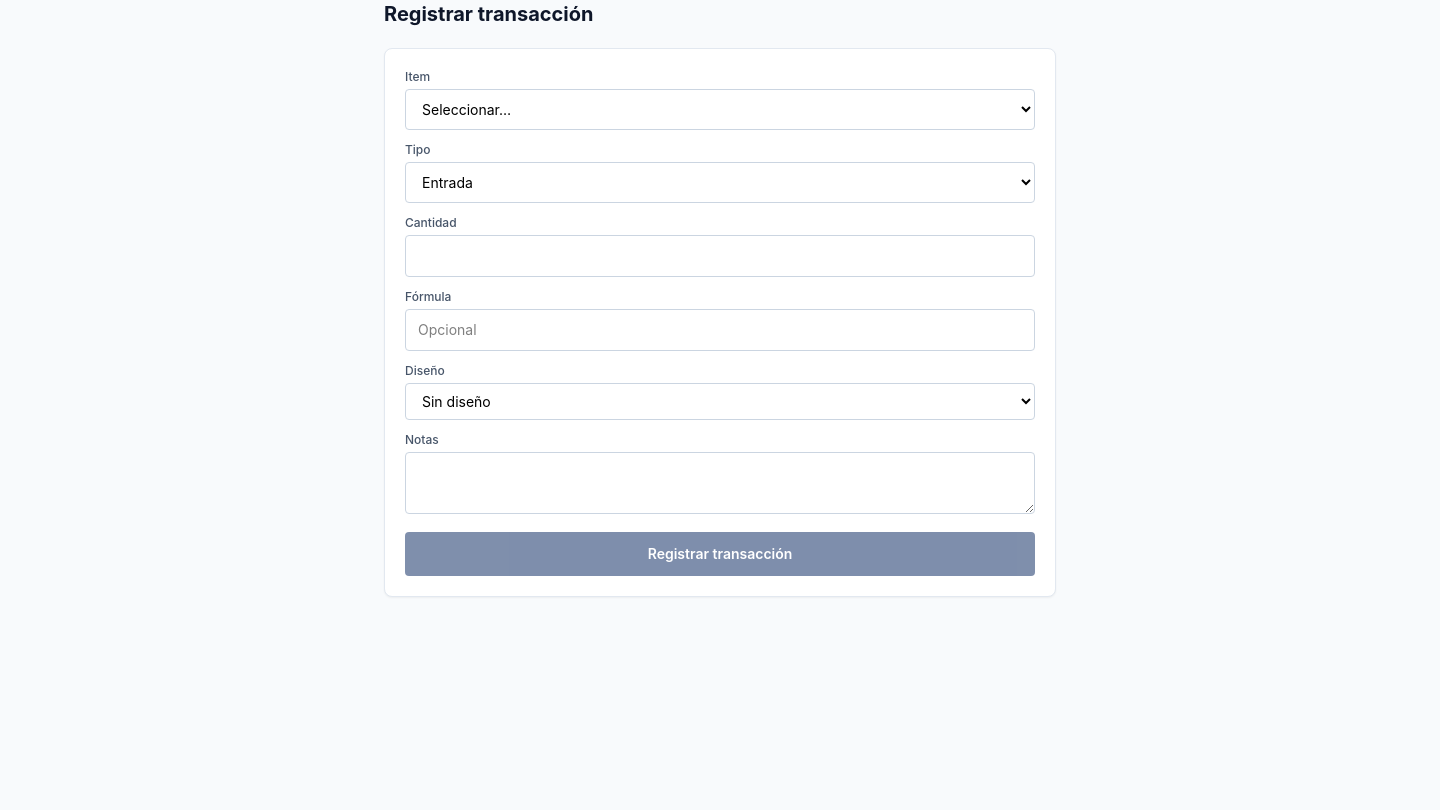
Test case: InventoryTransactionPage (mobile txn form) › shows the backend ajuste-sin-nota message verbatim
Select "Colorante Amarillo 109" in the dropdown labelled "Item" at [720, 110], box x1=405 y1=89 x2=1035 y2=130
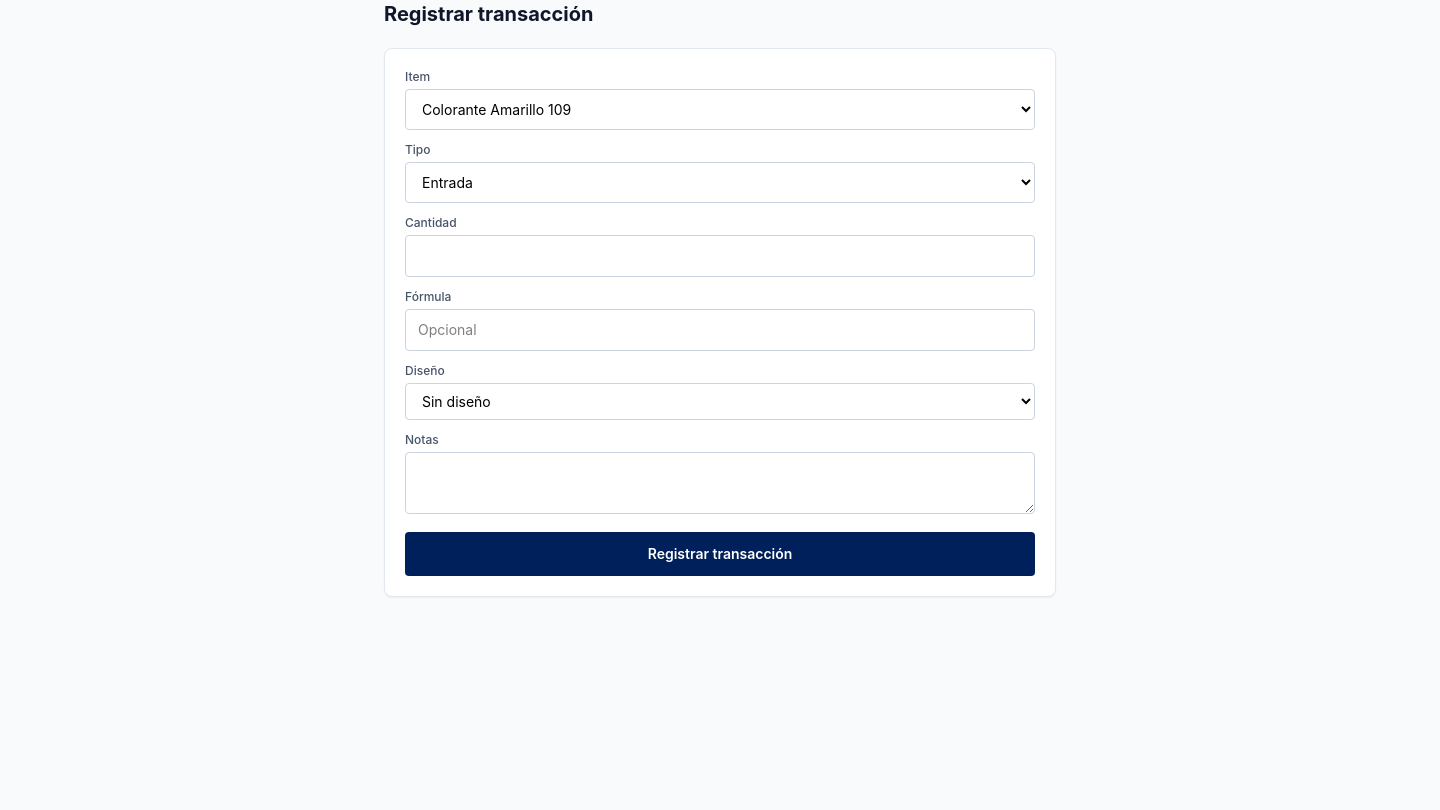
Select "Ajuste" in the dropdown labelled "Tipo" at [720, 182], box x1=405 y1=162 x2=1035 y2=203
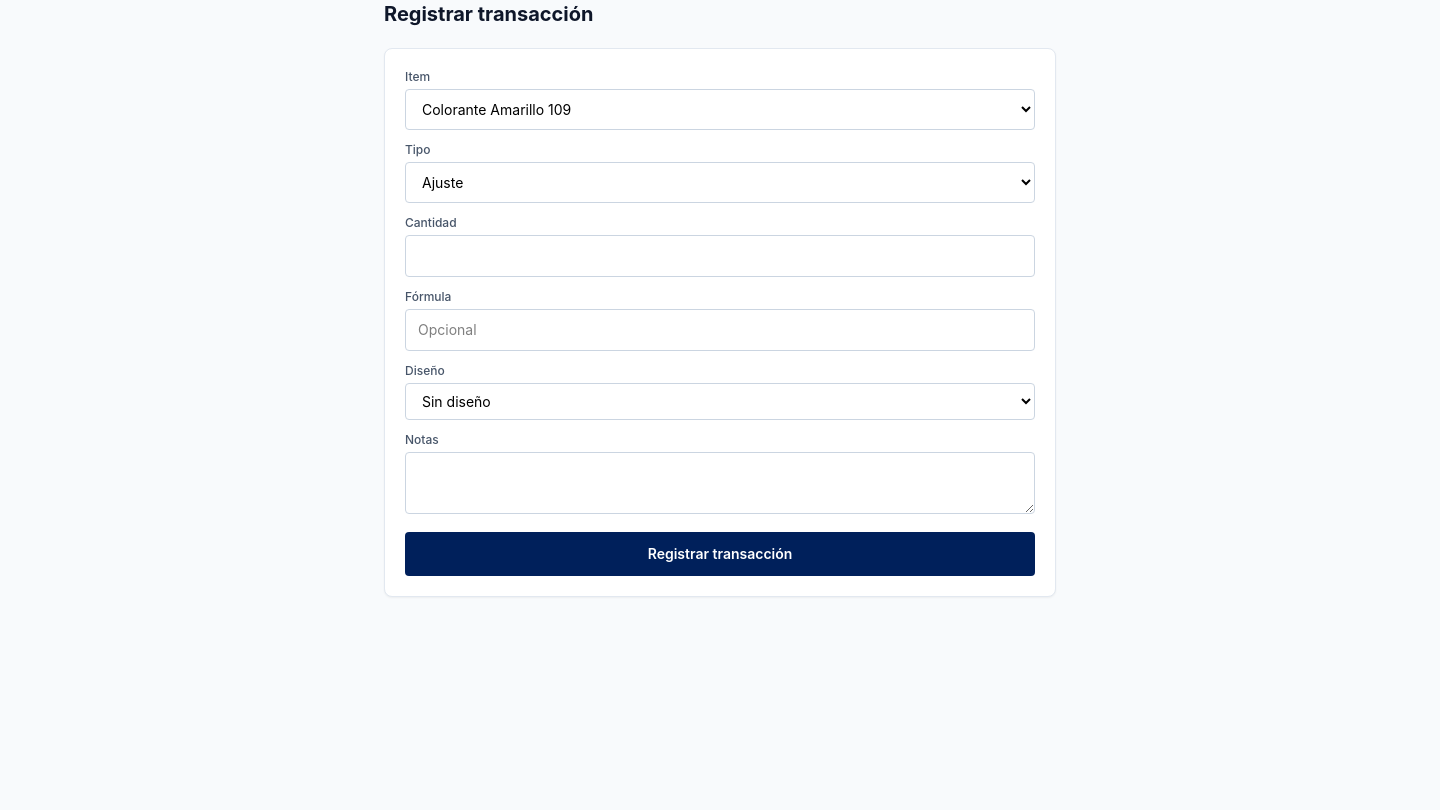
Type "2" into the number field labelled "Cantidad" at [720, 256], box x1=405 y1=235 x2=1035 y2=277
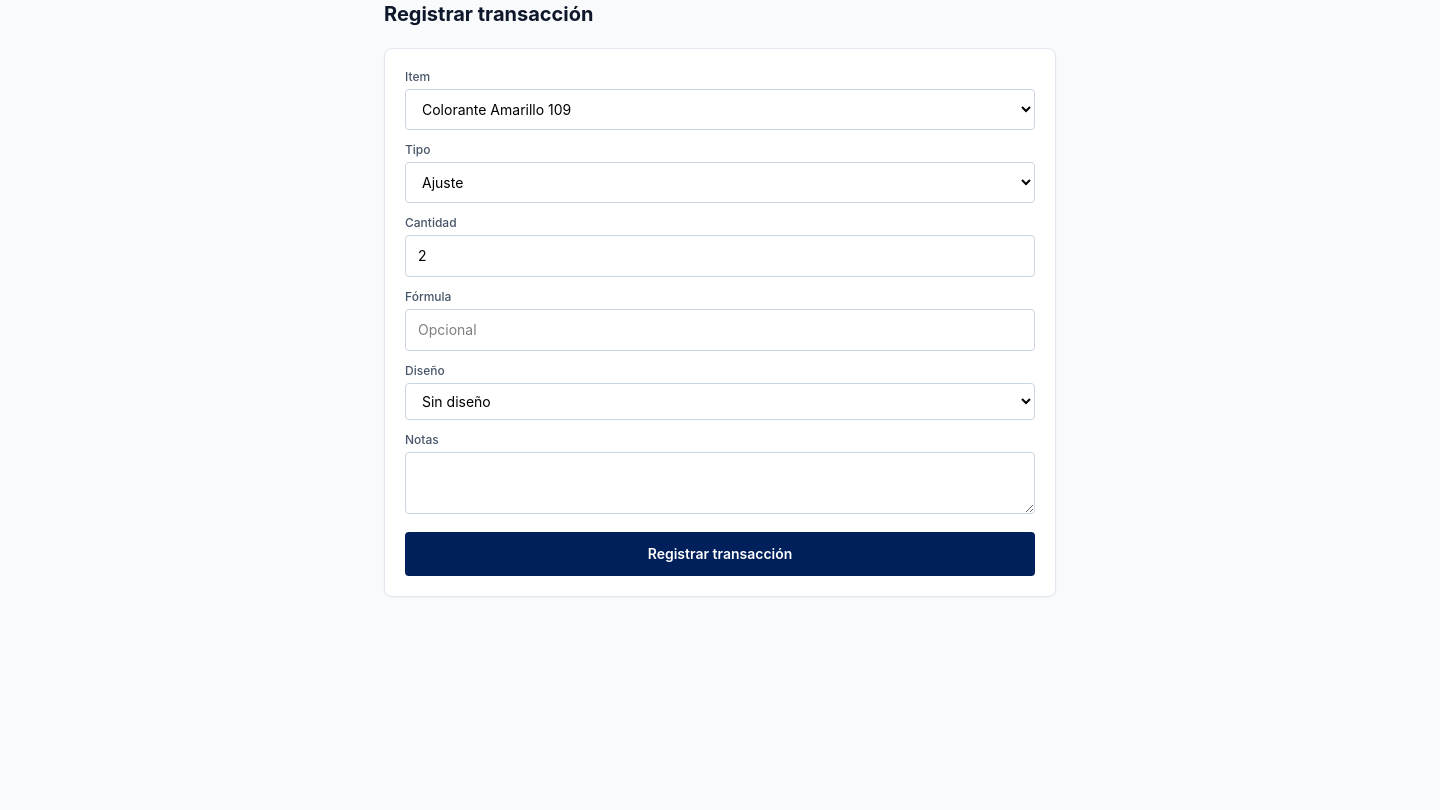
Click the button "Registrar transacción" at [720, 554], box x1=405 y1=532 x2=1035 y2=576
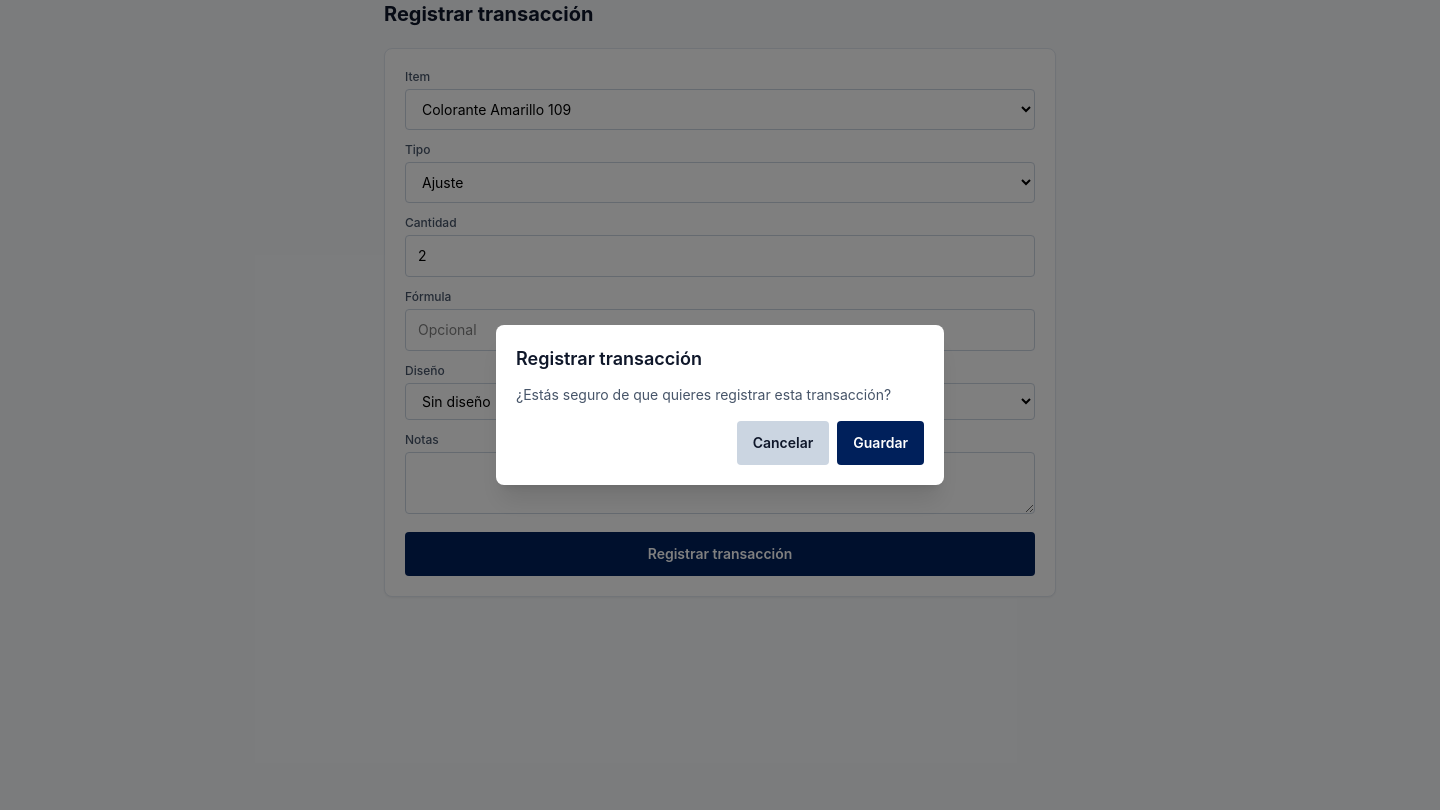
Click the button "Guardar" at [881, 443], box x1=837 y1=421 x2=924 y2=465
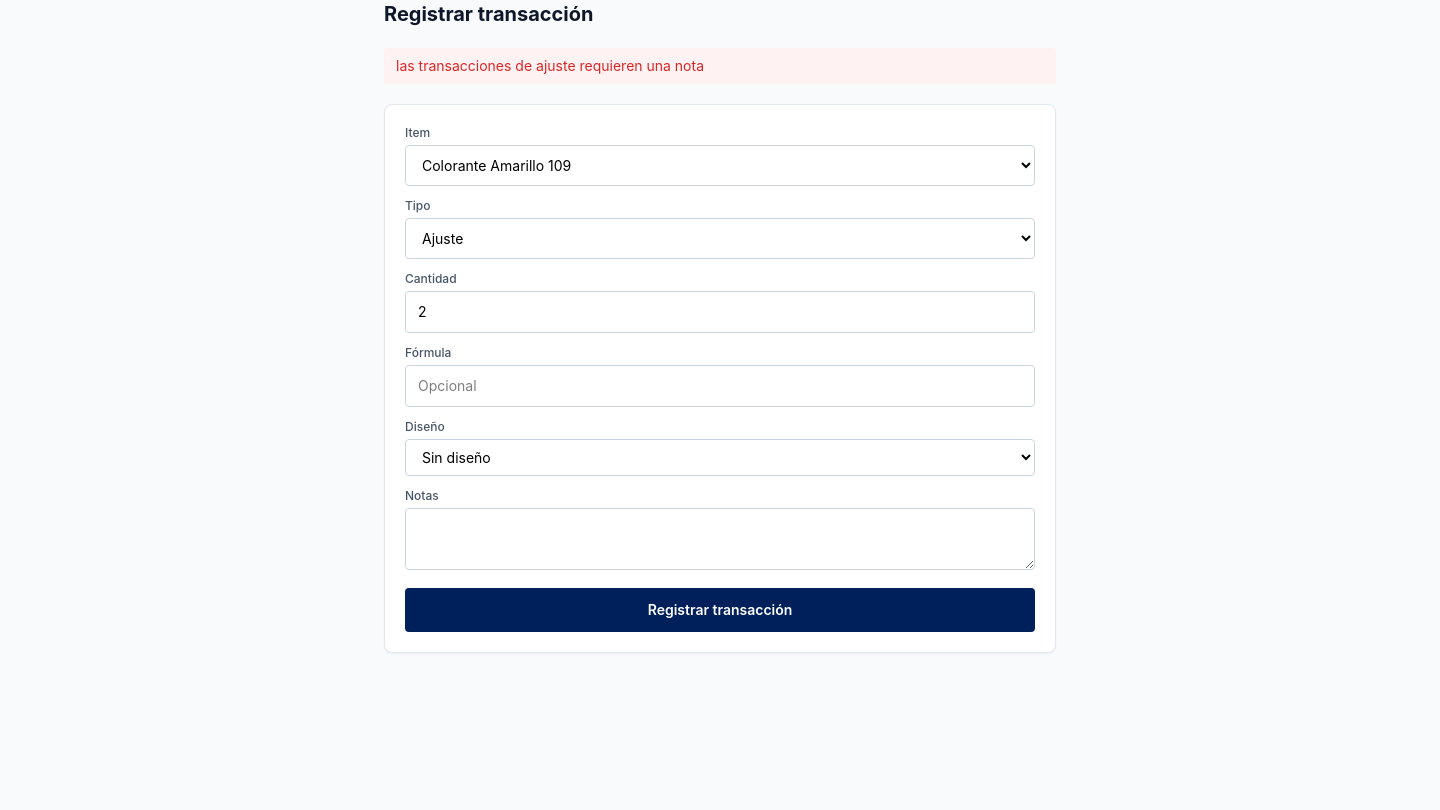
Check: the text "las transacciones de ajuste requieren una nota" is shown, box x1=384 y1=48 x2=1056 y2=84
